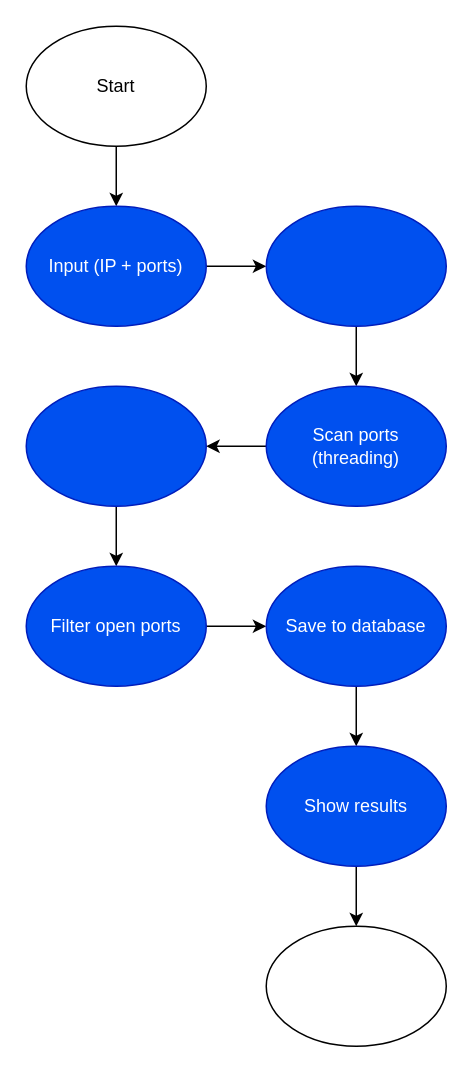
Image size: 473x1073. Some labels were removed from this diagram. Here are the shapes that lost their labels. From the top down, the centre of each, then its label:
the point at 355,265: Create PortScanner
the point at 115,445: Store results
the point at 355,985: End
